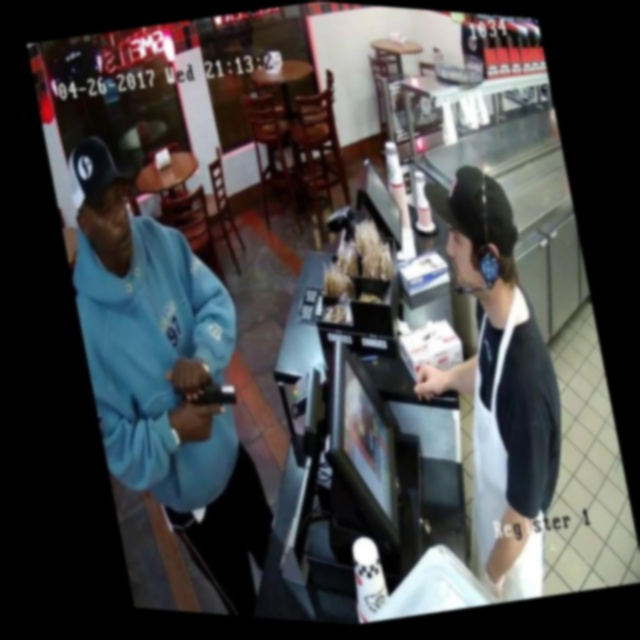gun: (143, 340, 265, 455)
